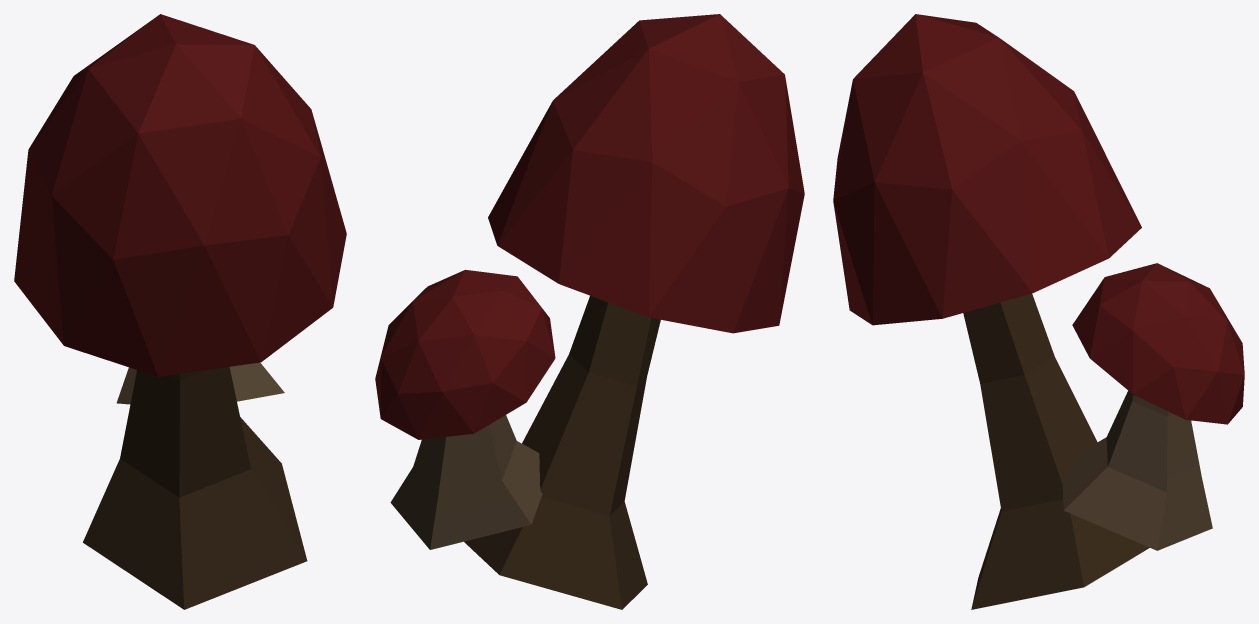
File: Mushrooms2.glb
3 views of the same model, side by side, from view 1: azimuth 30°, elevation 25°; view 2: azimuth 150°, elevation 25°; view 3: azimuth 270°, elevation 25° (orthographic). The views are drawn at different scales.
Visible parts, largest first — view 1: Mushroom_3, Mushroom_4; view 2: Mushroom_3, Mushroom_4; view 3: Mushroom_3, Mushroom_4.
Boxes of the visible parts, x1=… form: Mushroom_3: x1=14, y1=14, x2=346, y2=609; Mushroom_4: x1=116, y1=362, x2=284, y2=404; Mushroom_3: x1=464, y1=14, x2=804, y2=609; Mushroom_4: x1=375, y1=269, x2=555, y2=549; Mushroom_3: x1=833, y1=14, x2=1149, y2=609; Mushroom_4: x1=1062, y1=263, x2=1244, y2=550.
Bounding box in the file's own units: 0.4095 × 0.7301 × 0.5.
Materials: 1 (1 with a texture image).
